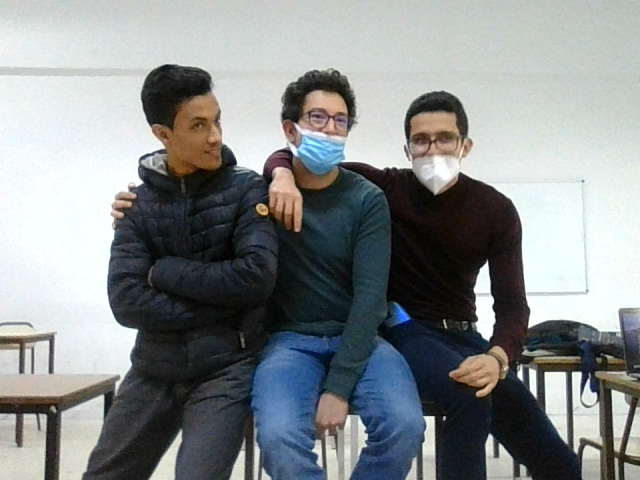mask_weared_incorrect: (396, 96, 481, 197), (275, 71, 357, 174)
without_mask: (138, 71, 235, 167)
